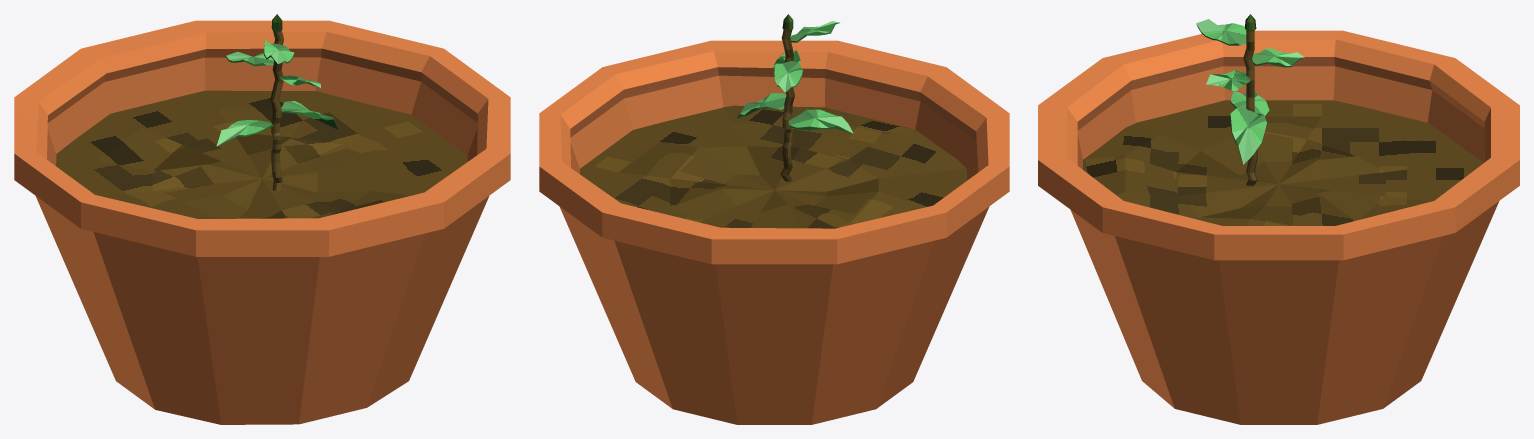
File: plantpot_seedling_second_satge.gltf
3 views of the same model, side by side, from view 1: azimuth 30°, elevation 25°; view 2: azimuth 150°, elevation 25°; view 3: azimuth 270°, elevation 25° (orthographic). The views are drawn at different scales.
Visible parts, largest first — view 1: pot, soil, Left Leaf (×3), Stem; view 2: pot, soil, Left Leaf (×4), Stem; view 3: pot, soil, Left Leaf (×5), Stem.
Part boxes in pixels (bbox=[...]): pot: bbox=[14, 20, 510, 424]; soil: bbox=[56, 90, 467, 218]; Left Leaf (×3): bbox=[216, 40, 338, 146]; Stem: bbox=[270, 14, 283, 191]; pot: bbox=[539, 40, 1009, 424]; soil: bbox=[580, 105, 966, 228]; Left Leaf (×4): bbox=[737, 21, 853, 133]; Stem: bbox=[780, 14, 794, 181]; pot: bbox=[1038, 30, 1519, 424]; soil: bbox=[1083, 100, 1481, 225]; Left Leaf (×5): bbox=[1196, 19, 1304, 164]; Stem: bbox=[1243, 14, 1257, 185].
Size of the model in its own units: 2.12 by 1.7 by 2.12.
4 materials, 4 textured.
